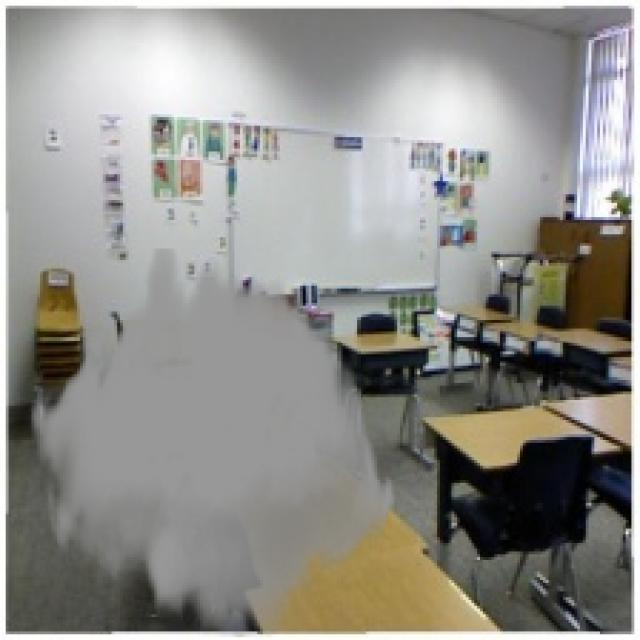smoke: (29, 249, 397, 637)
